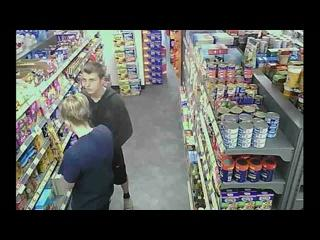shoplifting: (78, 62, 134, 203), (57, 93, 115, 210)
